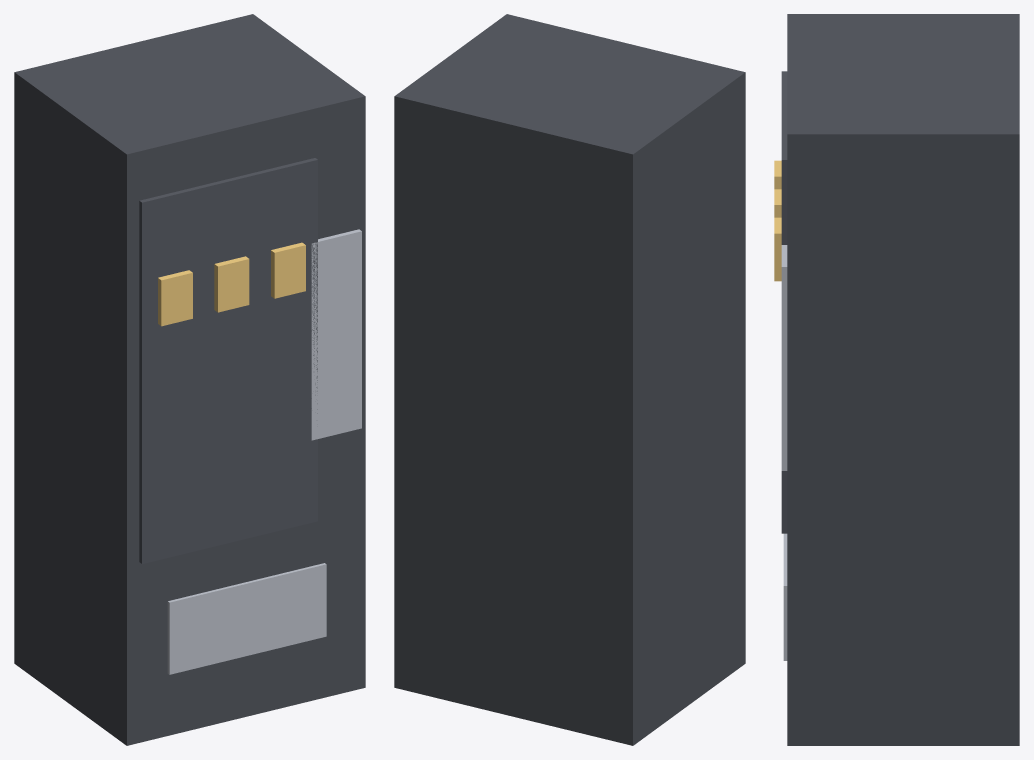
The model's file is raum_automat.glb.
3 renders of one model, left to right at view 1: azimuth 30°, elevation 25°; view 2: azimuth 150°, elevation 25°; view 3: azimuth 270°, elevation 25°, orthographic. The views are drawn at different scales.
Visible parts, largest first — view 1: korpus, scheibe, ausgabe, bedienfeld, dose_1, dose_0, dose_2; view 2: korpus; view 3: korpus, scheibe, bedienfeld, ausgabe, dose_2.
Boxes of the visible parts, <box> form: korpus: <box>14,14,365,745</box>; scheibe: <box>139,158,317,563</box>; ausgabe: <box>167,563,326,674</box>; bedienfeld: <box>311,229,361,440</box>; dose_1: <box>214,256,249,312</box>; dose_0: <box>158,270,192,326</box>; dose_2: <box>271,242,305,298</box>; korpus: <box>394,14,745,745</box>; korpus: <box>787,14,1019,745</box>; scheibe: <box>781,71,787,533</box>; bedienfeld: <box>781,245,787,470</box>; ausgabe: <box>783,533,787,660</box>; dose_2: <box>774,217,781,281</box>.
Size of the model in its own units: 0.76 by 1.8 by 0.655.
